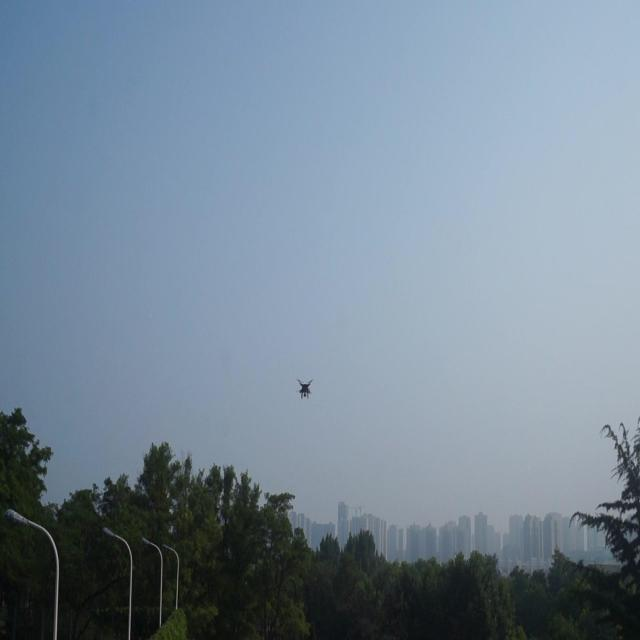drone: (295, 375, 315, 402)
